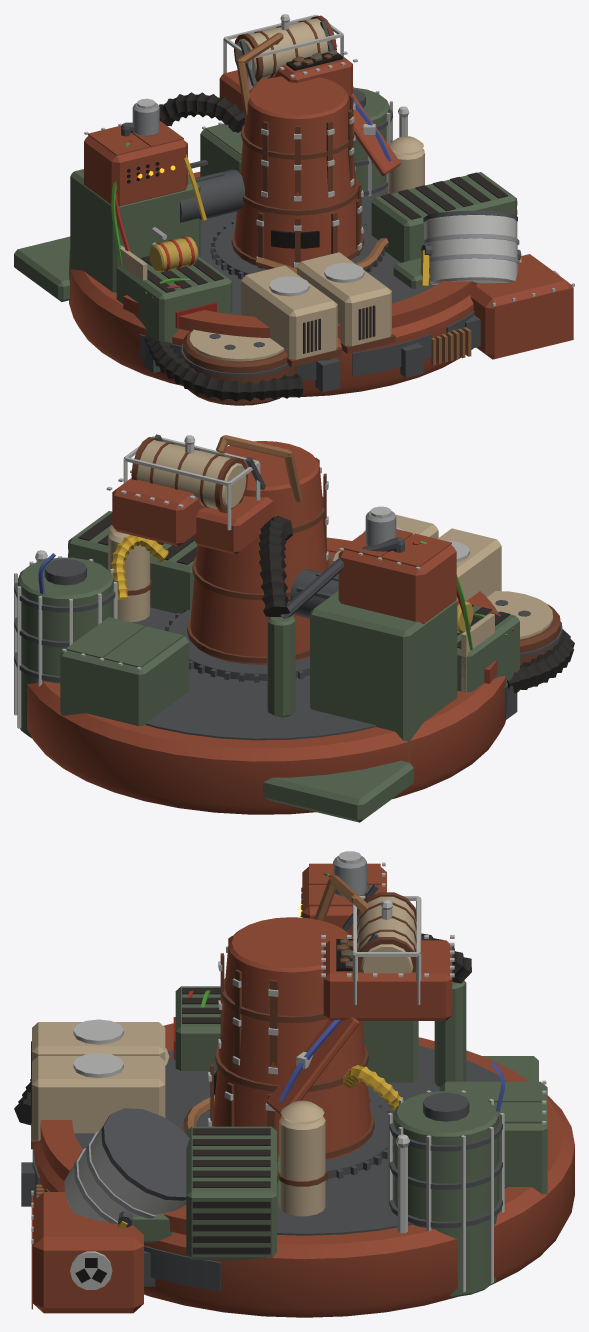
File: foundry.glb
3 renders of one model, top to bottom at view 1: azimuth 30°, elevation 25°; view 2: azimuth 150°, elevation 25°; view 3: azimuth 270°, elevation 25°, orthographic. The views are drawn at different scales.
Parts seen in each view (by area): view 1: body, anim_tilt_foundry_ladle; view 2: body; view 3: body, anim_tilt_foundry_ladle.
Boxes of the visible parts, x1,y1,x2,y2 form: body: [14, 14, 574, 405]; anim_tilt_foundry_ladle: [420, 210, 521, 286]; body: [14, 434, 574, 822]; body: [14, 851, 574, 1317]; anim_tilt_foundry_ladle: [64, 1108, 189, 1227].
Size of the model in its own units: 5.15 by 3.41 by 5.31.
